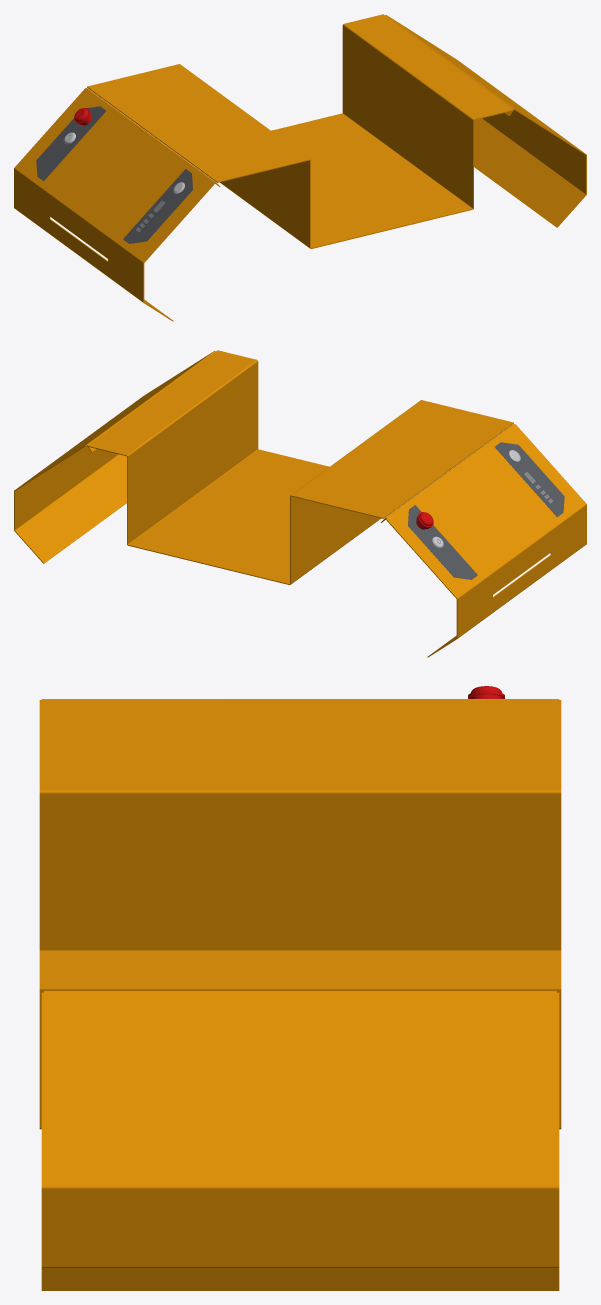
File: a200_top_chassis.dae
The picture shows the model from 3 angles, top to bottom: view 1: azimuth 30°, elevation 25°; view 2: azimuth 150°, elevation 25°; view 3: azimuth 270°, elevation 25°; orthographic projection. The views are drawn at different scales.
Parts seen in each view (by area): view 1: chassis, panel_right, panel_left; view 2: chassis, panel_right, panel_left; view 3: chassis.
Boxes of the visible parts, <box> form: chassis: <box>14,14,586,321</box>; panel_right: <box>123,169,192,243</box>; panel_left: <box>36,106,105,180</box>; chassis: <box>14,350,586,657</box>; panel_right: <box>495,442,564,516</box>; panel_left: <box>408,505,477,579</box>; chassis: <box>39,699,561,1290</box>.
Bounding box in the file's own units: 0.812 × 0.4137 × 0.2264.
